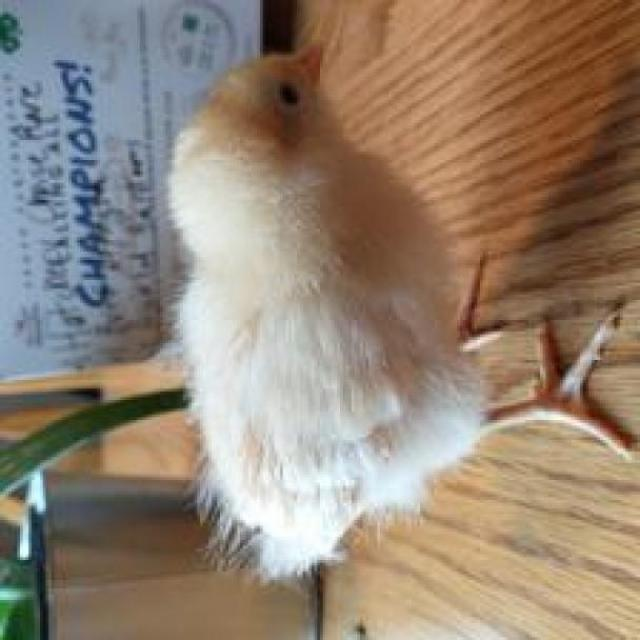Chicken: (152, 18, 626, 597)
